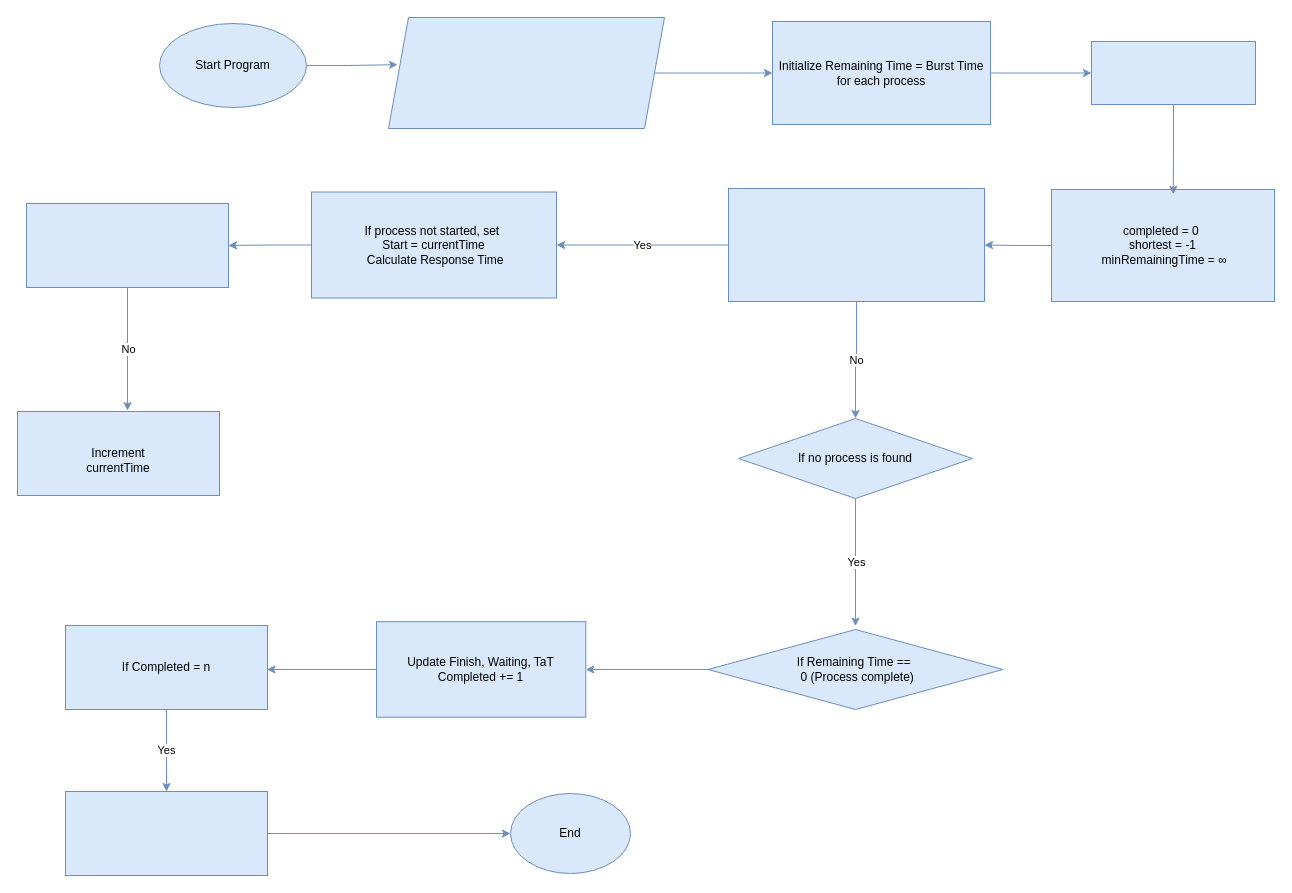
The diagram is 1292 pixels wide and 893 high, and some of its shapes have lost their labels. Each missing label, with the centre of its shape:
"CurrentTime = 0" goes at point 1173,72.
"Enter number of processes (n) and process information" goes at point 526,72.
"Execute process Remaining Time - 1" goes at point 127,245.
"Find process with shortest Remaining Time and Arrival Time <= currentTime" goes at point 856,245.
"Print results, Calculate AWT and ATaT" goes at point 166,833.
